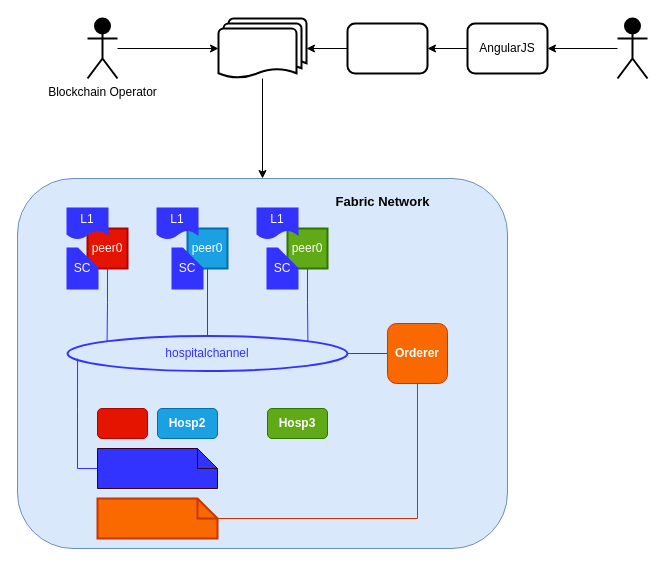
Some shapes in this 666 by 566 pixel diagram are drawn without their labels. Here are the shapes that lost their labels. From the top down, the centre of each, then its label:
[262,48]: Docker
[387,48]: NodeJS server
[632,48]: User
[122,423]: Hosp1
[157,468]: hospitalchannel config
[157,518]: Network config
